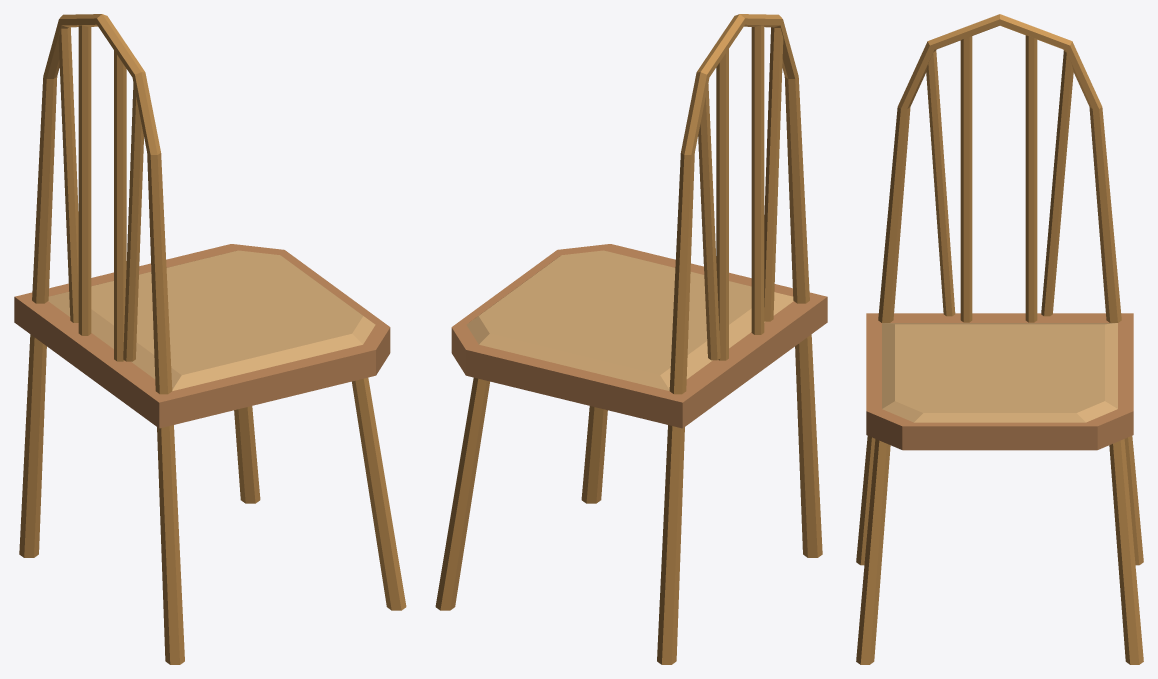
The model's file is Chair_04.glb.
3 renders of one model, left to right at view 1: azimuth 30°, elevation 25°; view 2: azimuth 150°, elevation 25°; view 3: azimuth 270°, elevation 25°, orthographic. The views are drawn at different scales.
Visible parts, largest first — view 1: Chair_04; view 2: Chair_04; view 3: Chair_04.
Part boxes in pixels (box(x1,y1,x2,y2)): Chair_04: box(14, 14, 406, 664); Chair_04: box(435, 14, 827, 664); Chair_04: box(856, 14, 1143, 664).
Size of what is drawn, in the model's own units: 0.5376 by 1.22 by 0.579.
1 material, 1 textured.
